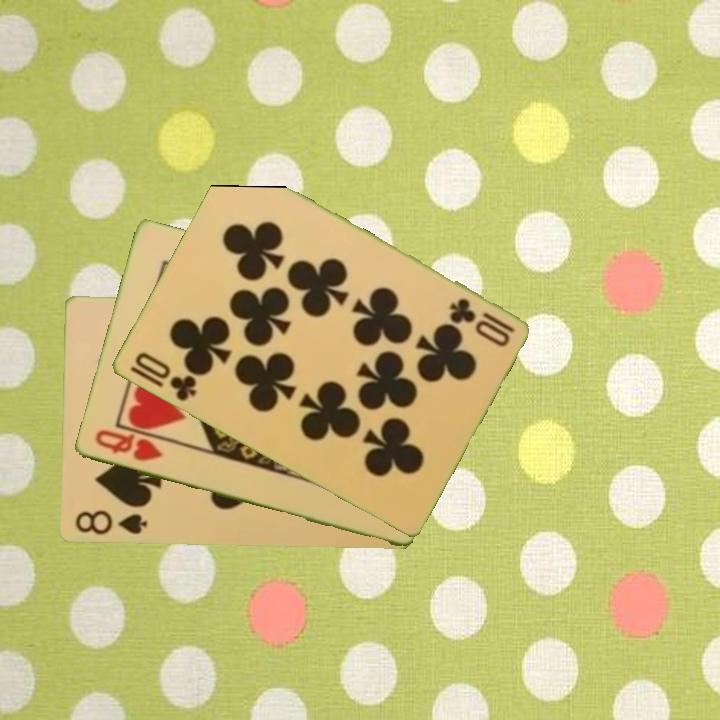10c: (445, 294, 517, 350), (130, 348, 199, 405)
8s: (71, 507, 150, 538)
Qh: (91, 426, 165, 465)
